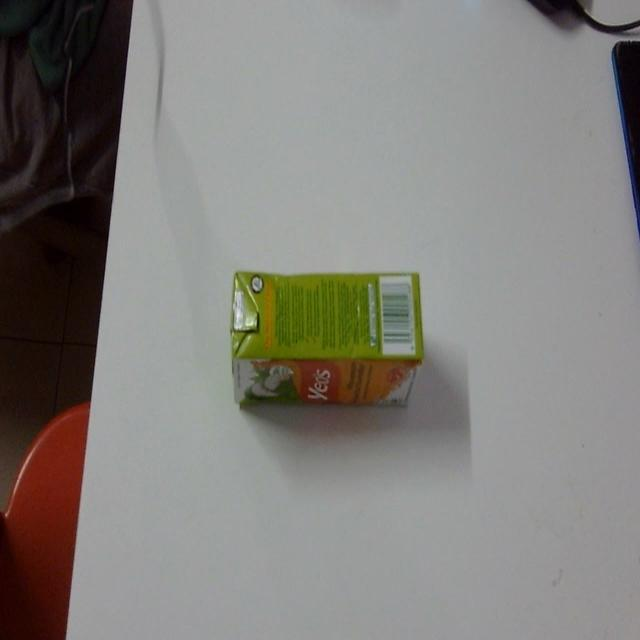plastic_laydown_0rotation: (218, 256, 432, 418)
